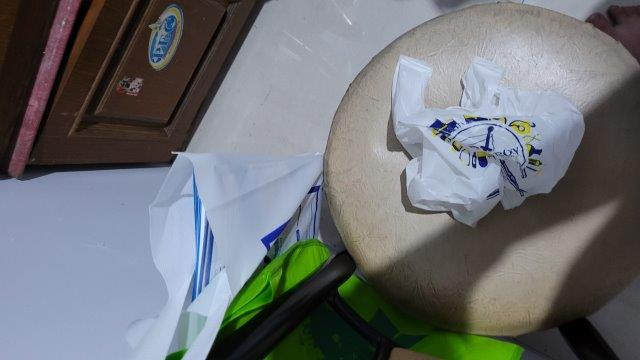plastik: (387, 55, 586, 228)
